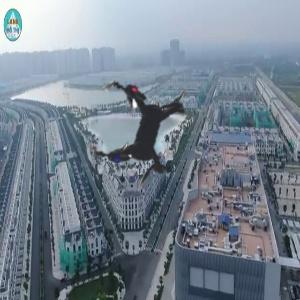drone: (45, 37, 244, 236)
